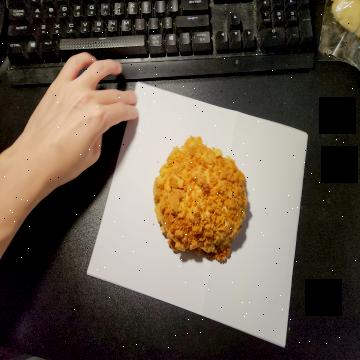soboru_bread: (155, 136, 248, 265)
